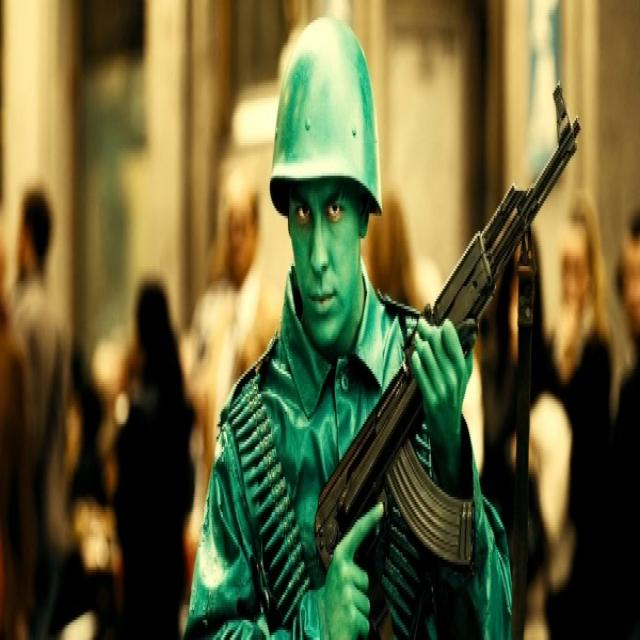rifle: (313, 79, 582, 640)
